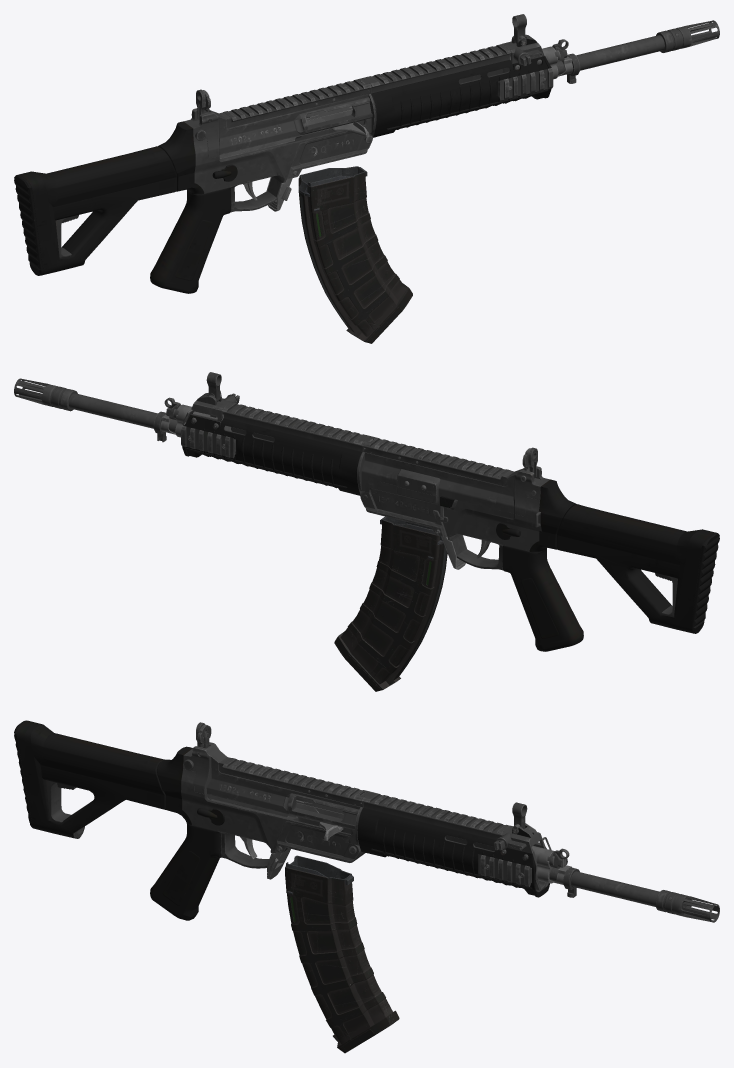
File: cn-qbz191.glb
3 views of the same model, one above another, from view 1: azimuth 30°, elevation 25°; view 2: azimuth 150°, elevation 25°; view 3: azimuth 330°, elevation 25° (orthographic).
Parts seen in each view (by area): view 1: cn-qbz191; view 2: cn-qbz191; view 3: cn-qbz191.
Boxes of the visible parts, <box> form: cn-qbz191: <box>14,14,719,343</box>; cn-qbz191: <box>14,372,719,691</box>; cn-qbz191: <box>14,720,719,1053</box>.
Bounding box in the file's own units: 0.9 × 0.3491 × 0.0744.
Materials: 2 (2 with a texture image).
